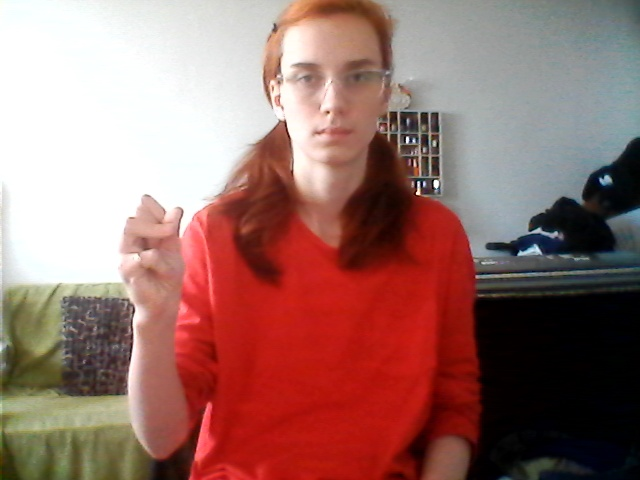r: (104, 189, 202, 329)
